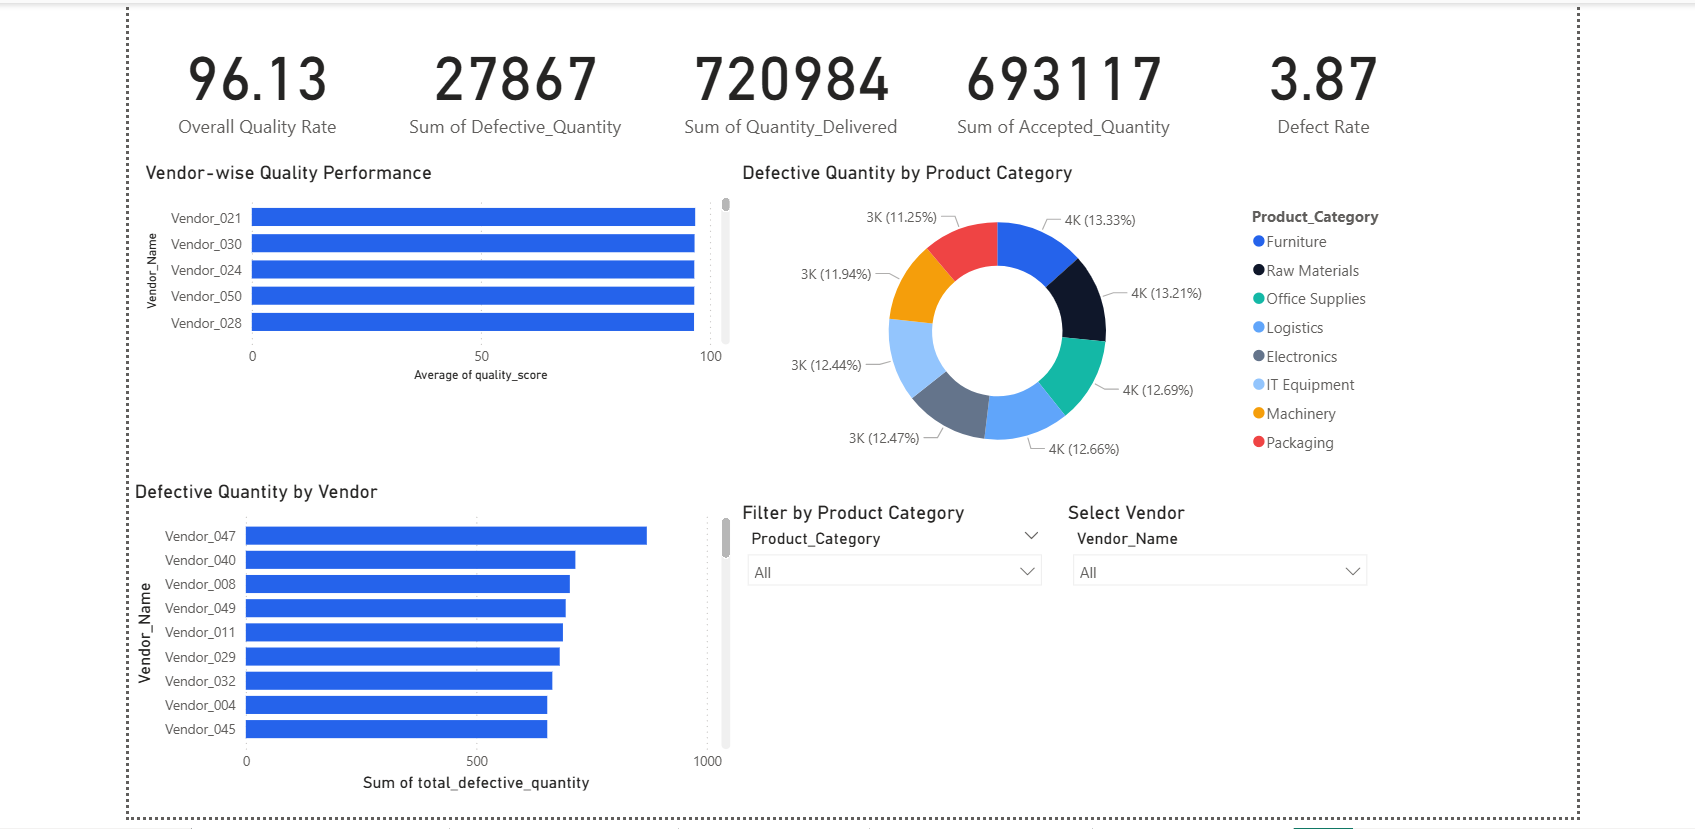

The page's visual inventory and layout, read from the dashboard file:
{"tool":"powerbi","page":{"name":"Quality Analysis","canvas":[1280,720],"ordinal":2},"visuals":[{"type":"card","fields":{"Values":["monthly_procurement_analysis.Overall Quality Rate"]},"box":[9.4,0,207.9,139.8],"z":0},{"type":"card","fields":{"Values":["Sum(vendor_purchase_orders_cleaned.Defective_Quantity)"]},"box":[217.3,0,247.6,139.8],"z":1000},{"type":"card","fields":{"Values":["Sum(vendor_purchase_orders_cleaned.Quantity_Delivered)"]},"box":[464.9,0,241.9,139.8],"z":2000},{"type":"card","fields":{"Values":["Sum(vendor_purchase_orders_cleaned.Accepted_Quantity)"]},"box":[706.8,0,238.1,139.8],"z":3000},{"type":"card","fields":{"Values":["monthly_procurement_analysis.Defect Rate"]},"box":[944.9,0,223,139.8],"z":4000},{"type":"clusteredBarChart","title":"Vendor-wise Quality Performance","fields":{"Category":["vendor_quality_analysis.Vendor_Name"],"Y":["Avg(vendor_quality_analysis.quality_score)"]},"box":[9.4,139.8,527.2,200.3],"z":5000},{"type":"clusteredBarChart","title":"Defective Quantity by Vendor","fields":{"Category":["vendor_quality_analysis.Vendor_Name"],"Y":["Sum(vendor_quality_analysis.total_defective_quantity)"]},"box":[0,421.4,536.7,279.7],"z":6000},{"type":"donutChart","title":"Defective Quantity by Product Category","fields":{"Category":["vendor_purchase_orders_cleaned.Product_Category"],"Y":["Sum(vendor_purchase_orders_cleaned.Defective_Quantity)"]},"box":[536.7,139.8,587.7,281.6],"z":7000},{"type":"slicer","title":"Filter by Product Category","fields":{"Values":["vendor_purchase_orders_cleaned.Product_Category"]},"box":[536.7,440.3,279.7,149.3],"z":7001},{"type":"slicer","title":"Select Vendor","fields":{"Values":["vendor_purchase_orders_cleaned.Vendor_Name"]},"box":[825.8,440.3,279.7,279.7],"z":7002}]}

Visuals, with their boxes on the page's 1280x720 design canvas (x1, y1, x2, y2). These are canvas units, not pixel positions in the 1695x829 screenshot, which may show the page scaled, cropped or inside an application window:
card - monthly_procurement_analysis.Overall Quality Rate: locate(9, 0, 217, 140)
card - Sum(vendor_purchase_orders_cleaned.Defective_Quantity): locate(217, 0, 465, 140)
card - Sum(vendor_purchase_orders_cleaned.Quantity_Delivered): locate(465, 0, 707, 140)
card - Sum(vendor_purchase_orders_cleaned.Accepted_Quantity): locate(707, 0, 945, 140)
card - monthly_procurement_analysis.Defect Rate: locate(945, 0, 1168, 140)
"Vendor-wise Quality Performance" clusteredBarChart: locate(9, 140, 537, 340)
"Defective Quantity by Vendor" clusteredBarChart: locate(0, 421, 537, 701)
"Defective Quantity by Product Category" donutChart: locate(537, 140, 1124, 421)
"Filter by Product Category" slicer: locate(537, 440, 816, 590)
"Select Vendor" slicer: locate(826, 440, 1106, 720)
